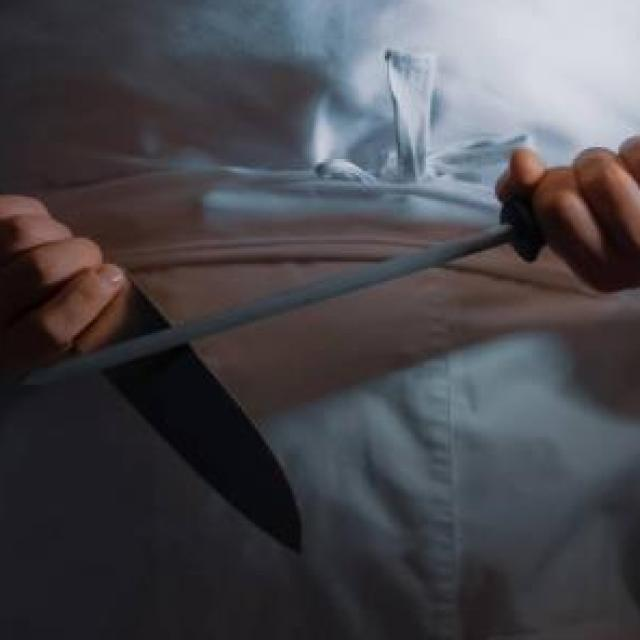knife: (0, 190, 309, 560)
